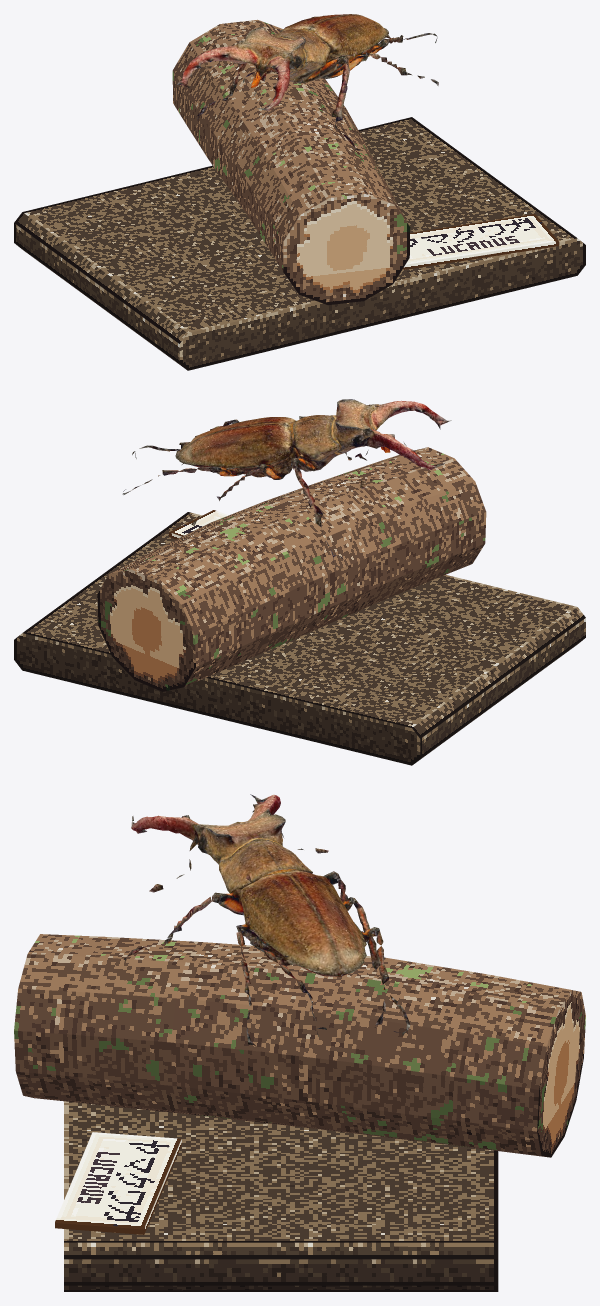
Rendered from miyama.glb.
3 views of the same model, one above another, from view 1: azimuth 30°, elevation 25°; view 2: azimuth 150°, elevation 25°; view 3: azimuth 270°, elevation 25° (orthographic). The views are drawn at different scales.
Parts seen in each view (by area): view 1: base, log, model_beetle, label; view 2: base, log, model_beetle, label; view 3: log, base, model_beetle, label.
Boxes of the visible parts, x1,y1,x2,y2 form: base: [14, 117, 585, 370]; log: [172, 19, 410, 305]; model_beetle: [177, 14, 438, 152]; label: [403, 214, 559, 269]; base: [14, 512, 585, 765]; log: [97, 447, 486, 691]; model_beetle: [122, 399, 451, 562]; label: [169, 510, 228, 539]; log: [14, 934, 585, 1157]; base: [64, 1101, 498, 1291]; model_beetle: [123, 794, 410, 1046]; label: [55, 1132, 181, 1234].
Size of the model in its own units: 34 by 19.59 by 31.61.
Materials: 2 (2 with a texture image).
